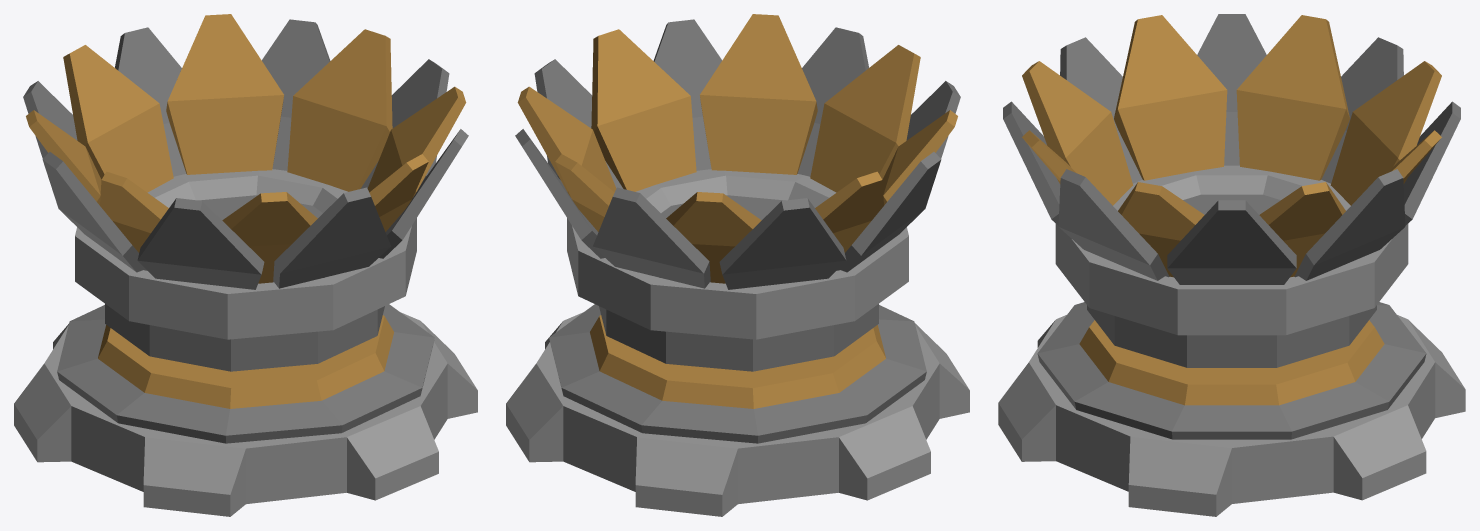
File: Props_Teleporter_1.glb
The picture shows the model from 3 angles, left to right: view 1: azimuth 30°, elevation 25°; view 2: azimuth 150°, elevation 25°; view 3: azimuth 270°, elevation 25°; orthographic projection.
Visible parts, largest first — view 1: Props_Teleporter_1; view 2: Props_Teleporter_1; view 3: Props_Teleporter_1.
Part boxes in pixels (box(x1,y1,x2,y2)): Props_Teleporter_1: box(14, 14, 477, 516); Props_Teleporter_1: box(506, 14, 969, 516); Props_Teleporter_1: box(998, 14, 1465, 516).
Size of the model in its own units: 1.21 by 0.9045 by 1.21.
